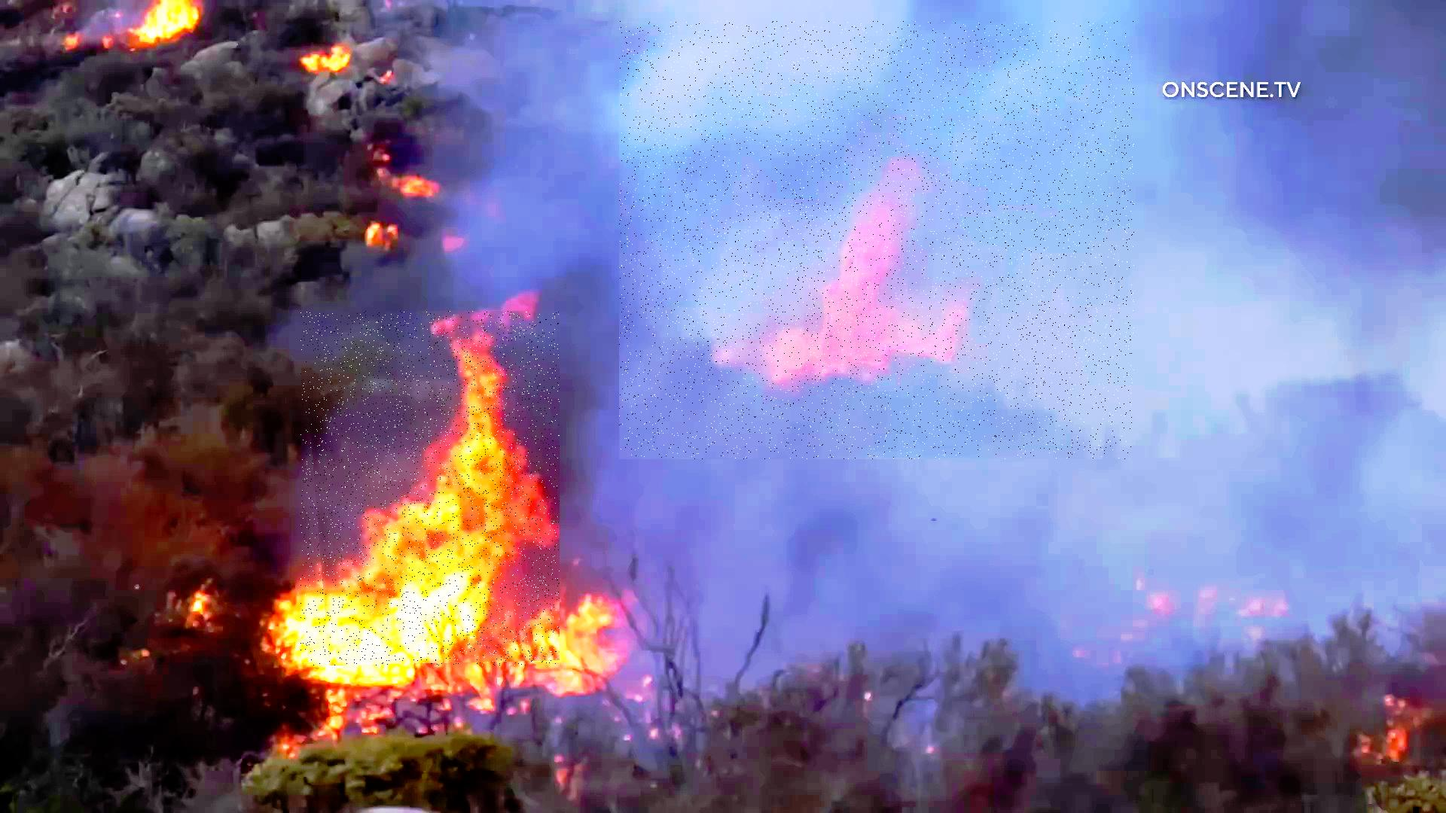fire: (301, 311, 560, 666)
smoke: (620, 21, 1135, 459)
